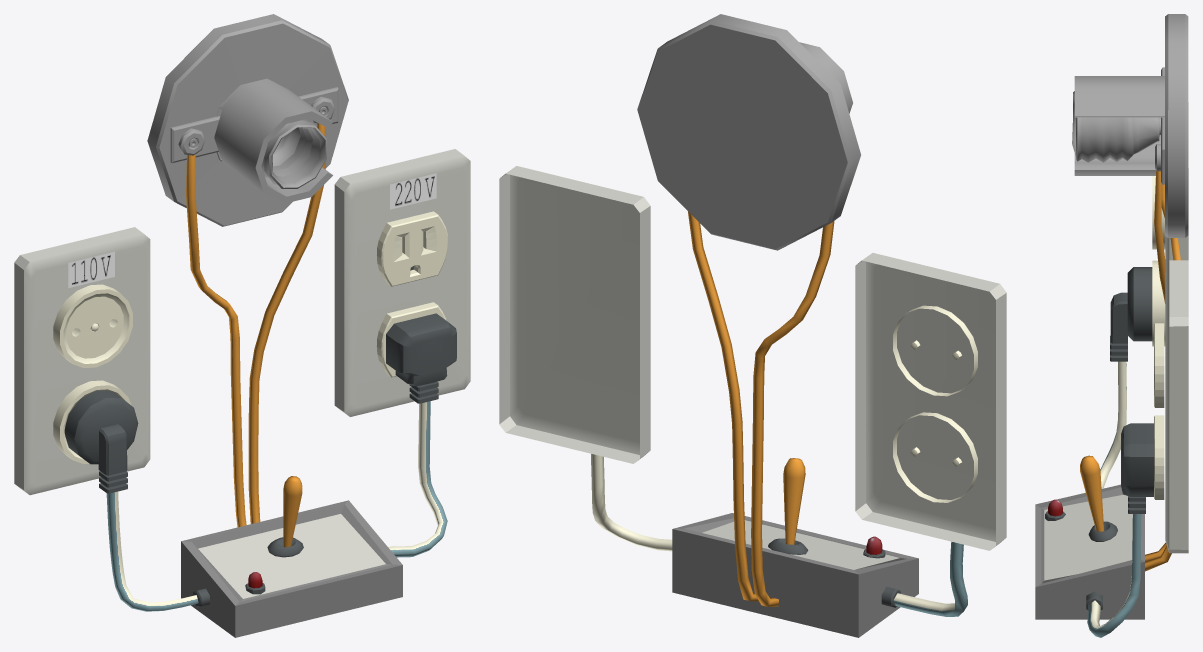
Rendered from SocketsPlugs.fbx.
3 views of the same model, side by side, from view 1: azimuth 30°, elevation 25°; view 2: azimuth 150°, elevation 25°; view 3: azimuth 270°, elevation 25° (orthographic). The views are drawn at different scales.
Parts seen in each view (by area): view 1: SocketsPlugs, SocketsPlugs_LightSocket, SocketsPlugsSwitch; view 2: SocketsPlugs, SocketsPlugs_LightSocket, SocketsPlugsSwitch; view 3: SocketsPlugs, SocketsPlugs_LightSocket, SocketsPlugsSwitch.
Part boxes in pixels (left/top/right/bottom): SocketsPlugs: left=14, top=123, right=470, bottom=637; SocketsPlugs_LightSocket: left=147, top=14, right=348, bottom=226; SocketsPlugsSwitch: left=283, top=476, right=302, bottom=547; SocketsPlugs: left=499, top=166, right=1006, bottom=637; SocketsPlugs_LightSocket: left=637, top=14, right=860, bottom=250; SocketsPlugsSwitch: left=783, top=458, right=805, bottom=544; SocketsPlugs: left=1035, top=102, right=1188, bottom=637; SocketsPlugs_LightSocket: left=1072, top=14, right=1188, bottom=237; SocketsPlugsSwitch: left=1080, top=455, right=1104, bottom=531.
Size of the model in its own units: 8.19 by 9.49 by 2.41.
